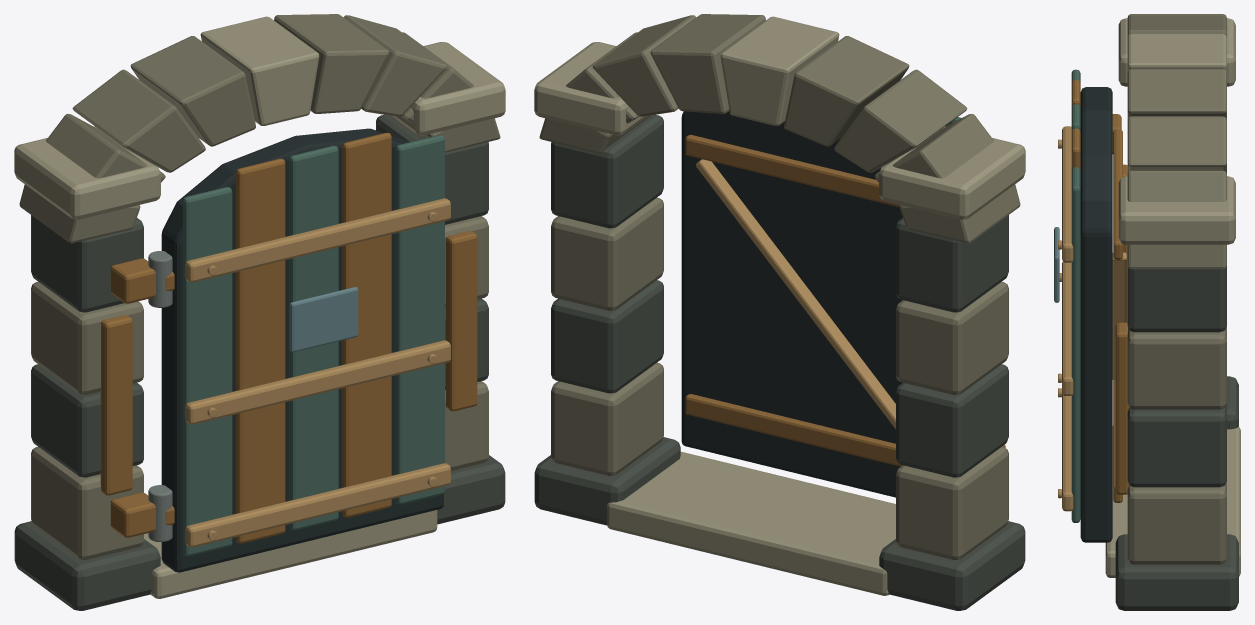
The model's file is LINKED_DOOR.hi.glb.
3 views of the same model, side by side, from view 1: azimuth 30°, elevation 25°; view 2: azimuth 150°, elevation 25°; view 3: azimuth 270°, elevation 25° (orthographic). The views are drawn at different scales.
Visible parts, largest first — view 1: Body_Mesh, DoorPivot_Mesh, SignSurface_Mesh; view 2: Body_Mesh, DoorPivot_Mesh; view 3: Body_Mesh, DoorPivot_Mesh, SignSurface_Mesh.
Part boxes in pixels (box(x1,y1,x2,y2)): Body_Mesh: box(14, 14, 505, 610); DoorPivot_Mesh: box(161, 128, 450, 572); SignSurface_Mesh: box(289, 287, 358, 352); Body_Mesh: box(534, 14, 1025, 610); DoorPivot_Mesh: box(681, 111, 961, 497); Body_Mesh: box(1105, 14, 1240, 610); DoorPivot_Mesh: box(1058, 69, 1126, 542); SignSurface_Mesh: box(1054, 227, 1059, 302).
Size of the model in its own units: 2.37 by 2.59 by 0.939.
